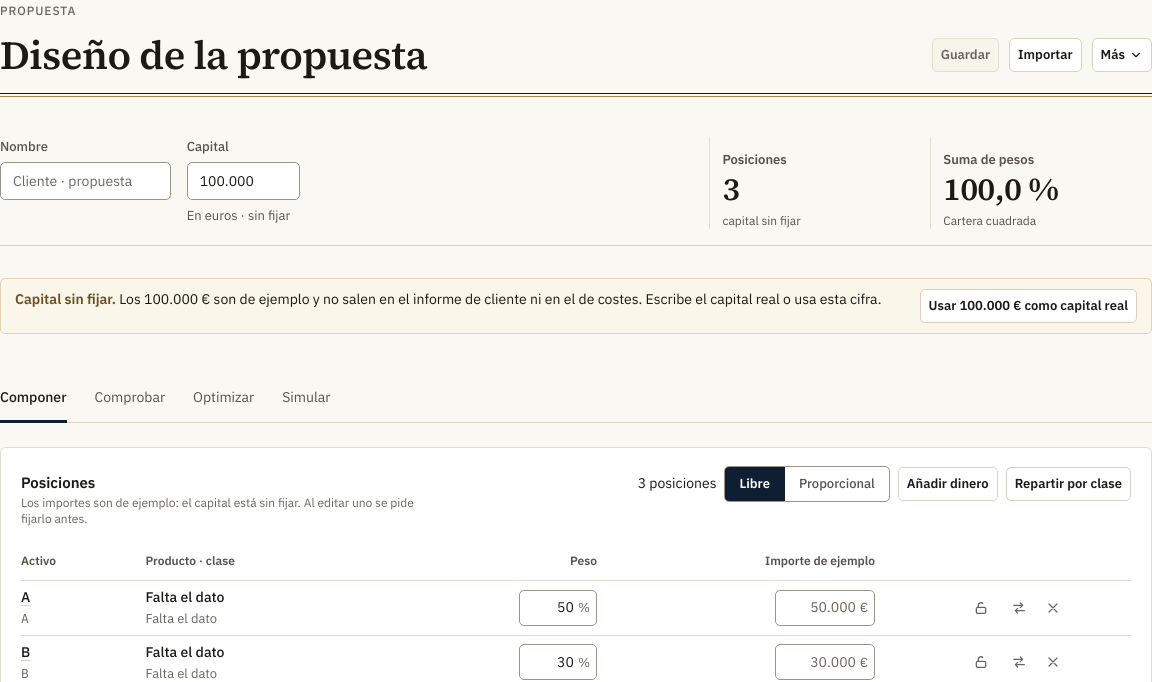
decisiones 14 y 15 › sin perfil elegido no se dice ningún nivel, ni en Estado ni en Comprobar
Click the tab "Comprobar" at [130, 398], box [94,374,165,422]
(page scrolled)
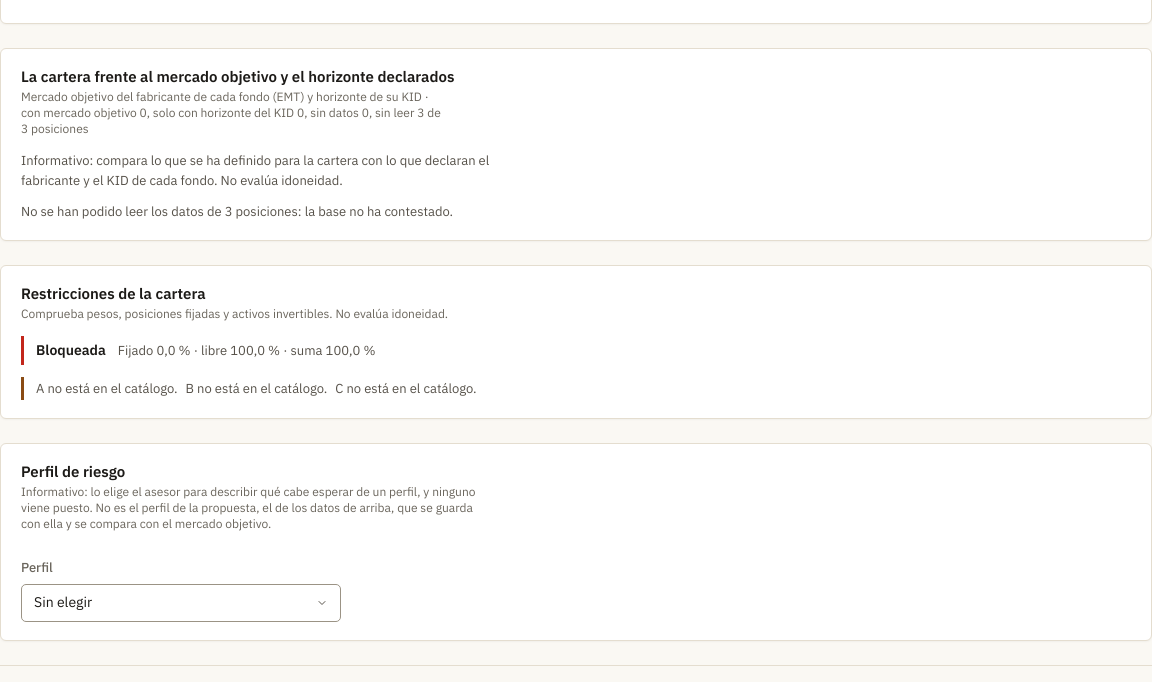
Now the text "Perfil de riesgo" is shown, box [21,462,125,481]
Now the text "No es el perfil de la propuesta" is shown, box [21,484,475,531]
Now the dropdown labelled "Perfil" shows "Sin elegir", box [21,584,341,622]
